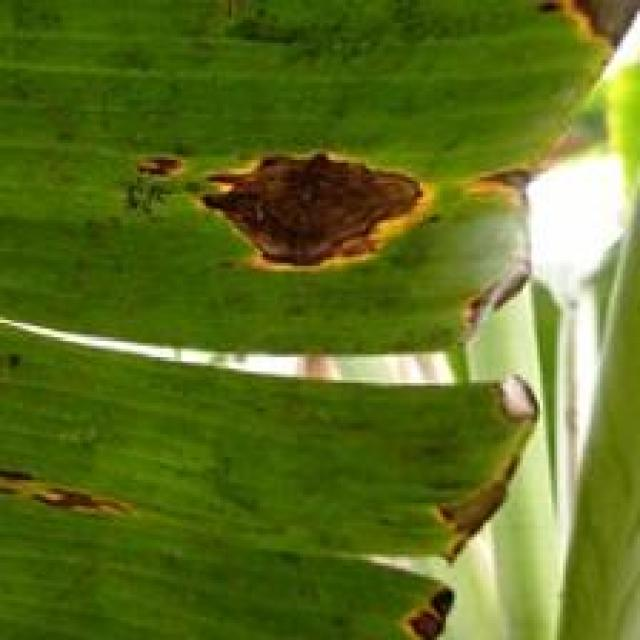Bacterial_spot: (193, 142, 434, 287), (0, 448, 146, 526), (407, 475, 522, 567), (523, 0, 640, 74), (451, 252, 534, 352), (456, 149, 537, 234), (110, 134, 190, 203), (390, 570, 461, 640), (481, 362, 554, 423), (552, 123, 588, 171), (4, 343, 43, 386)
